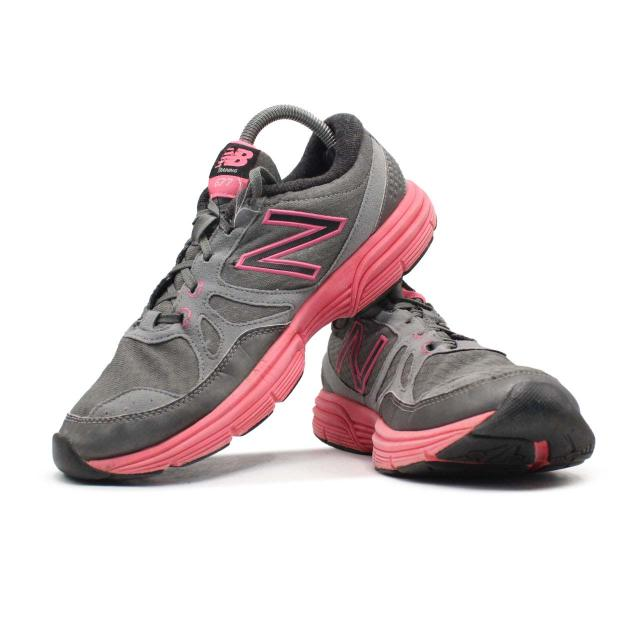heel: (342, 111, 407, 233)
midsole: (54, 180, 438, 485), (312, 381, 595, 469)
uppersole: (58, 140, 379, 457), (332, 297, 542, 427)
